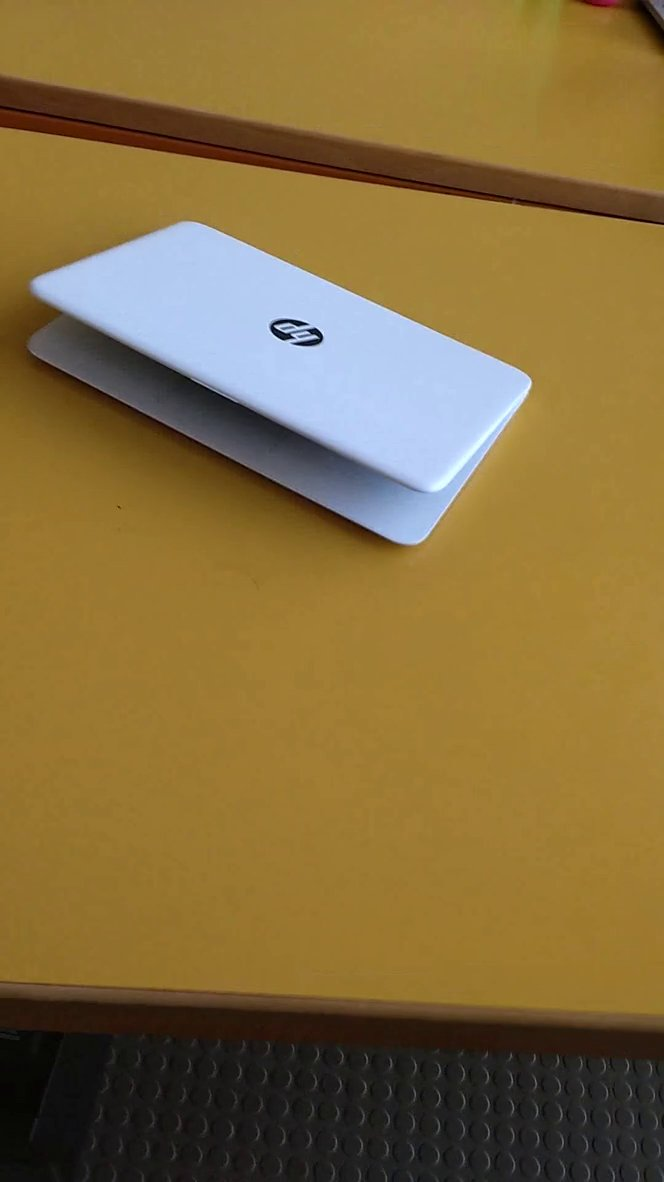laptop: (10, 192, 541, 575)
